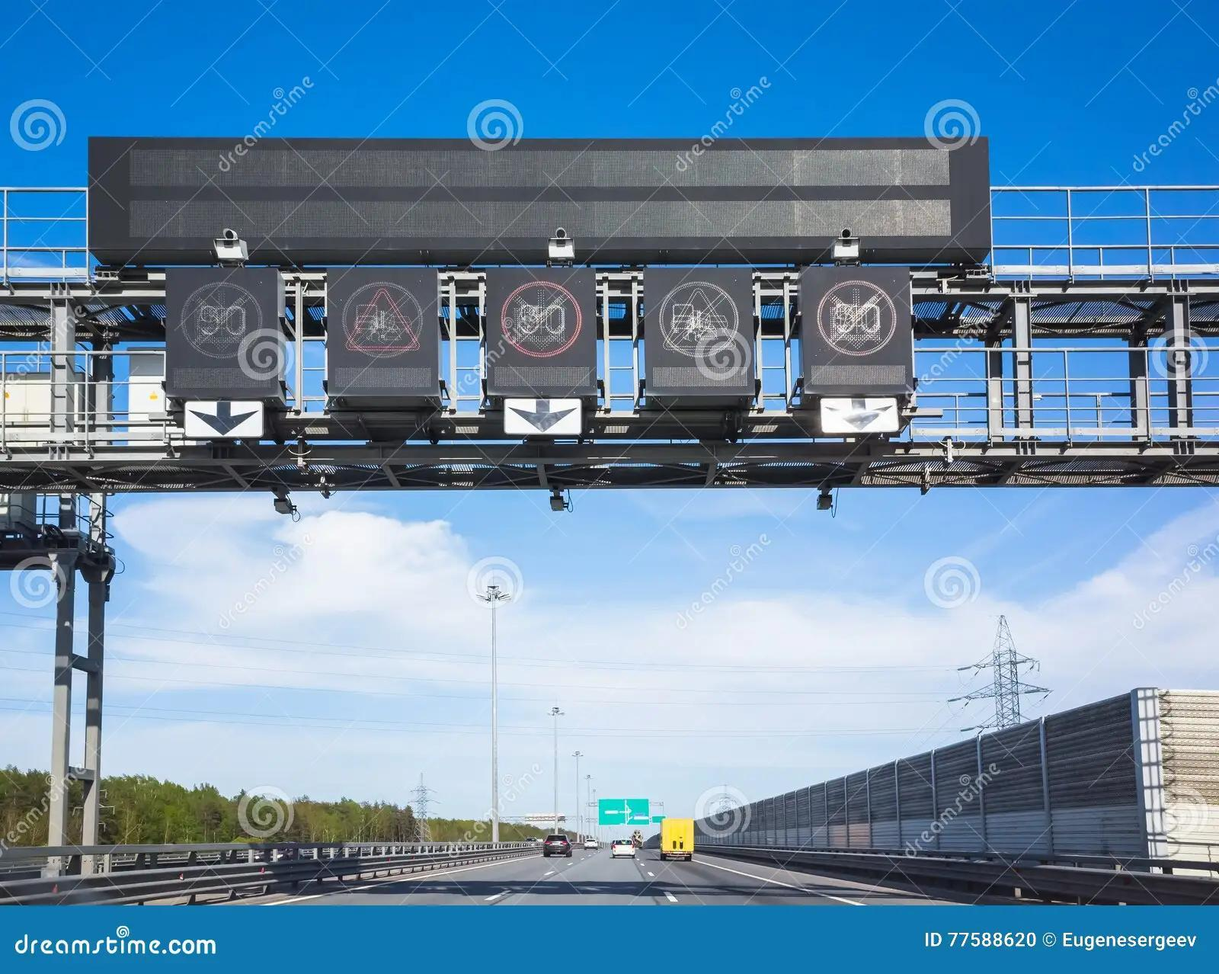Monitor: (536, 219, 586, 270), (209, 222, 258, 270), (826, 227, 867, 264)
